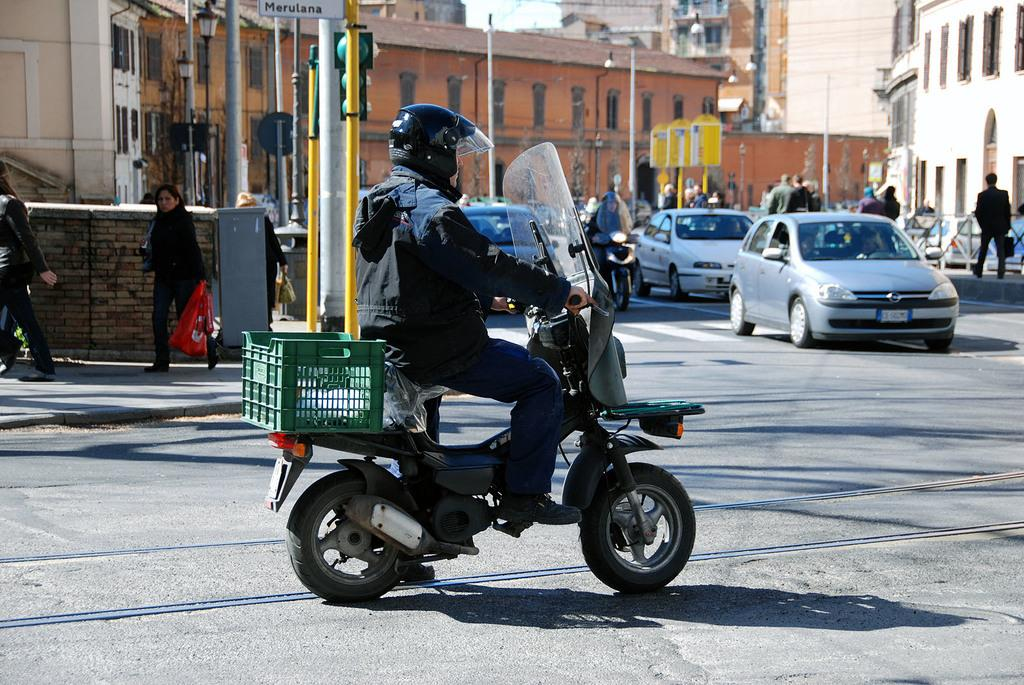Motorcycle: (217, 230, 716, 640)
